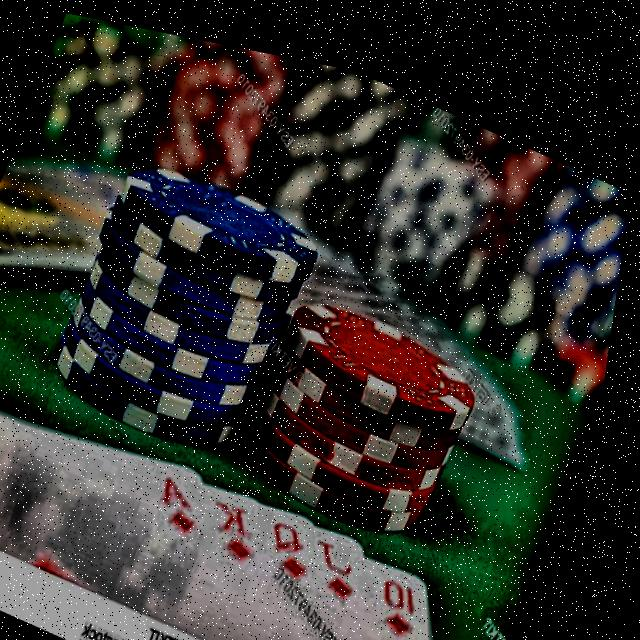Chip: (19, 112, 354, 479), (228, 251, 514, 548)
